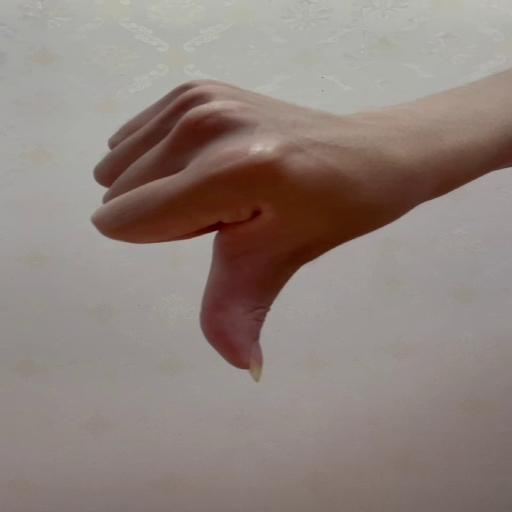thumbs_down: (94, 77, 377, 383)
